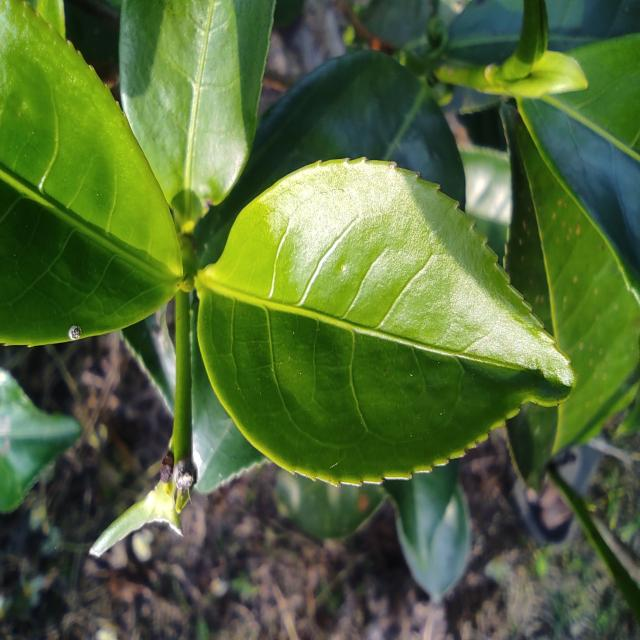Category B(2-4 days): (184, 144, 585, 488)
